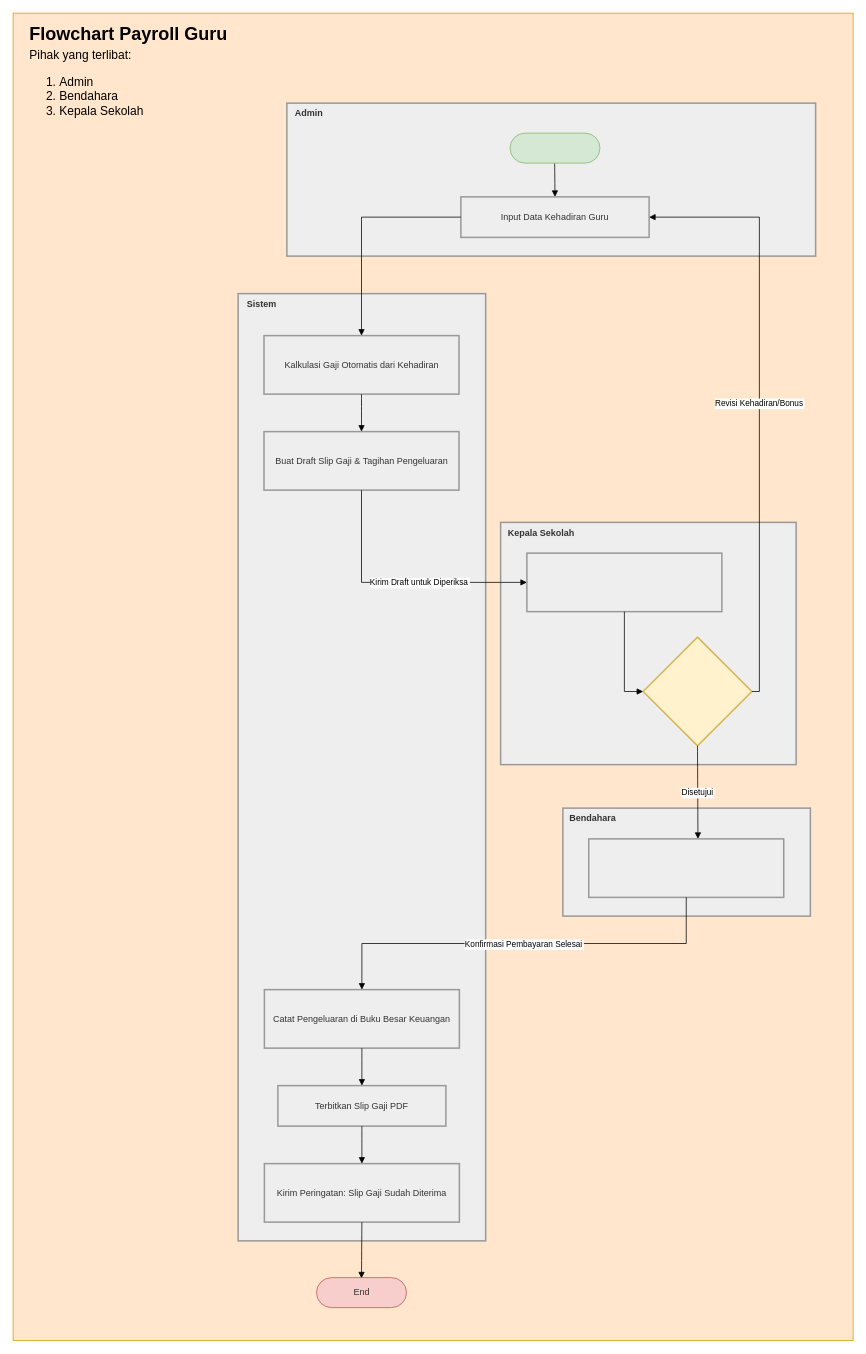
The diagram is 866 pixels wide and 1354 high, and some of its shapes have lost their labels. Each missing label, with the box of its shape:
Proses Pencairan Dana / Transfer Gaji: (588, 838, 784, 898)
Review Kehadiran & Performa Karyawan: (526, 552, 722, 612)
Setujui Gaji?: (642, 636, 752, 746)
Start: (509, 132, 600, 163)
